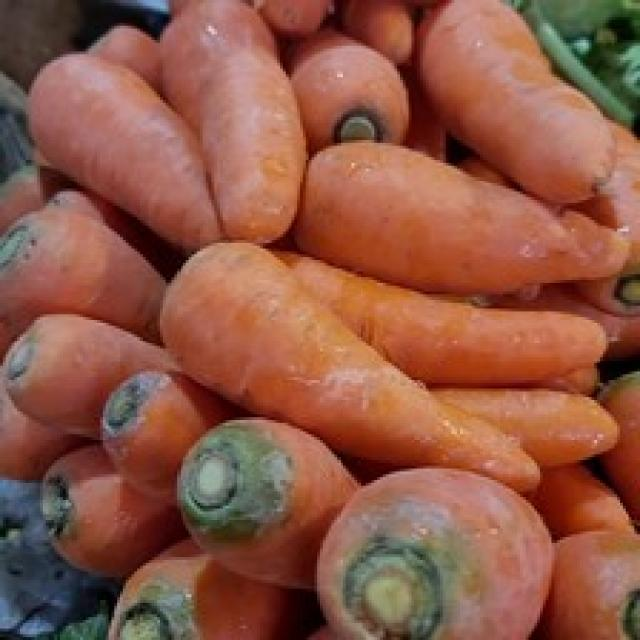Fresh_Carrot: (317, 142, 522, 283), (38, 72, 207, 210), (430, 13, 580, 154)
